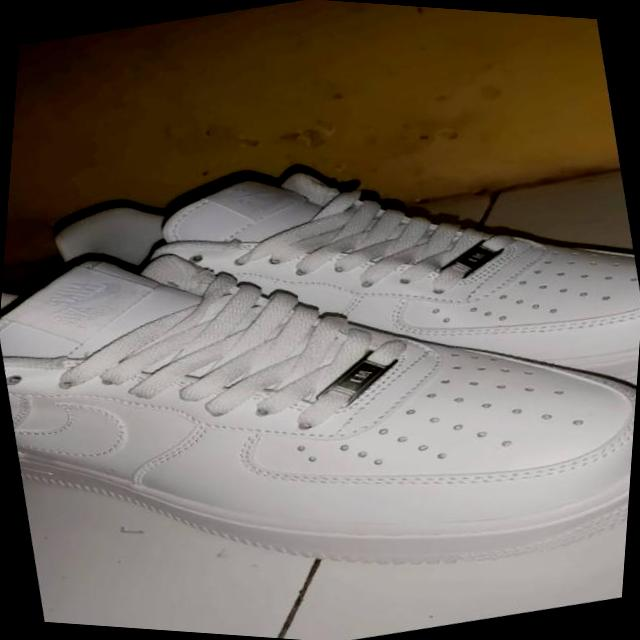nike_original_airforce: (0, 127, 640, 640), (0, 70, 640, 497)
